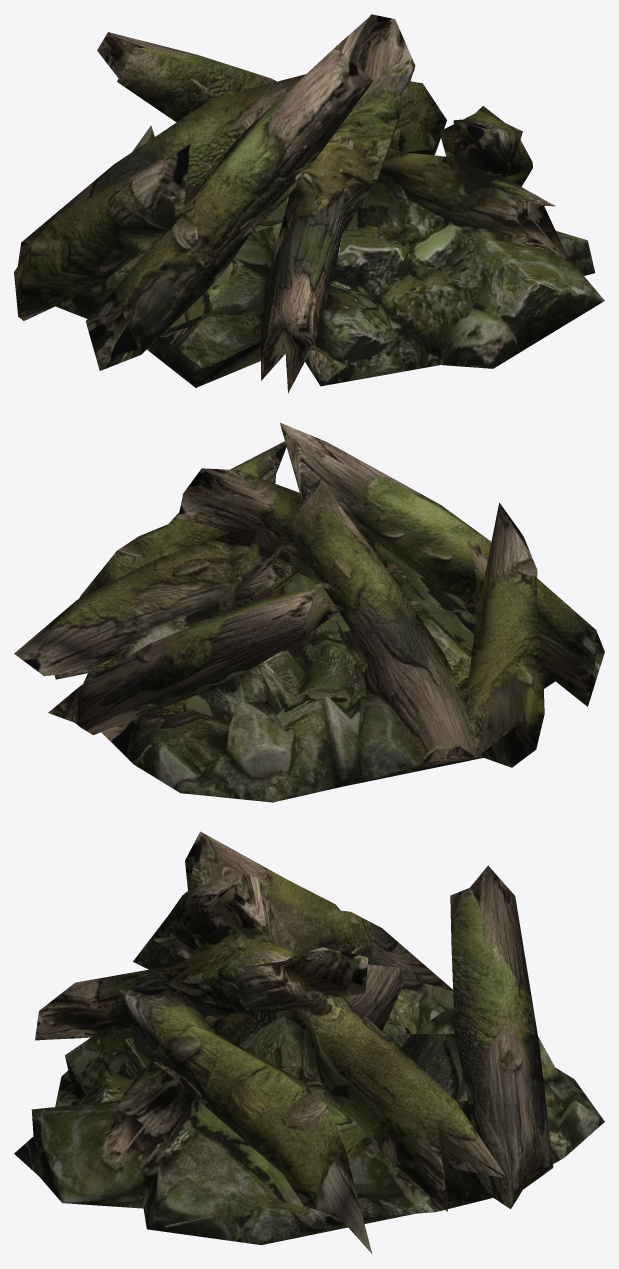
The model's file is ruins-timber.glb.
3 views of the same model, one above another, from view 1: azimuth 30°, elevation 25°; view 2: azimuth 150°, elevation 25°; view 3: azimuth 270°, elevation 25° (orthographic). The views are drawn at different scales.
Parts seen in each view (by area): view 1: Mesh1.0; view 2: Mesh1.0; view 3: Mesh1.0.
Part boxes in pixels (x1=…): Mesh1.0: x1=14, y1=14, x2=604, y2=393; Mesh1.0: x1=14, y1=422, x2=604, y2=802; Mesh1.0: x1=14, y1=831, x2=604, y2=1253.
Bounding box in the file's own units: 1.83 × 0.9022 × 1.75.
Materials: 1 (1 with a texture image).
